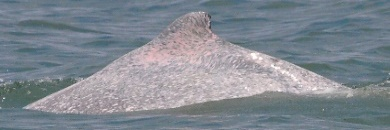fin: (15, 8, 365, 119)
